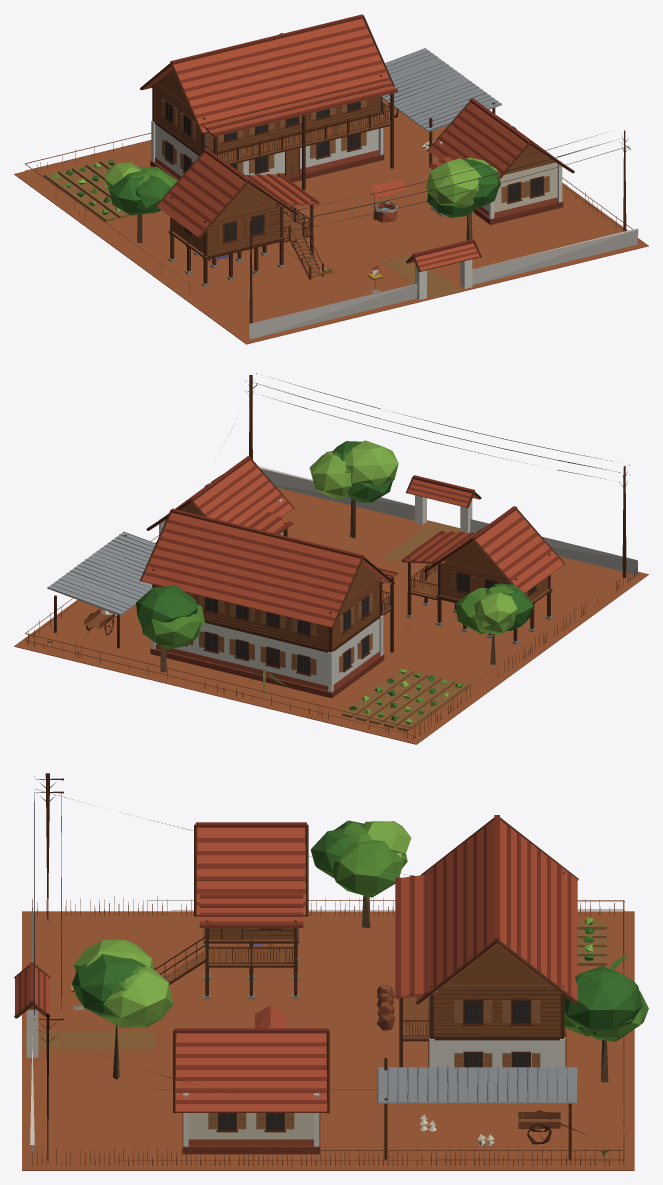
Rendered from home_5.glb.
The picture shows the model from 3 angles, top to bottom: view 1: azimuth 30°, elevation 25°; view 2: azimuth 150°, elevation 25°; view 3: azimuth 270°, elevation 25°; orthographic projection. The views are drawn at different scales.
Visible parts, largest first — view 1: body, windows; view 2: body, windows; view 3: body, windows.
Boxes of the visible parts, <box> form: body: <box>14,14,648,344</box>; windows: <box>165,101,542,241</box>; body: <box>14,373,648,744</box>; windows: <box>186,573,536,673</box>; body: <box>14,773,648,1170</box>; windows: <box>218,1001,529,1129</box>.
Size of the model in its own units: 32.43 by 9.6 by 33.06.
